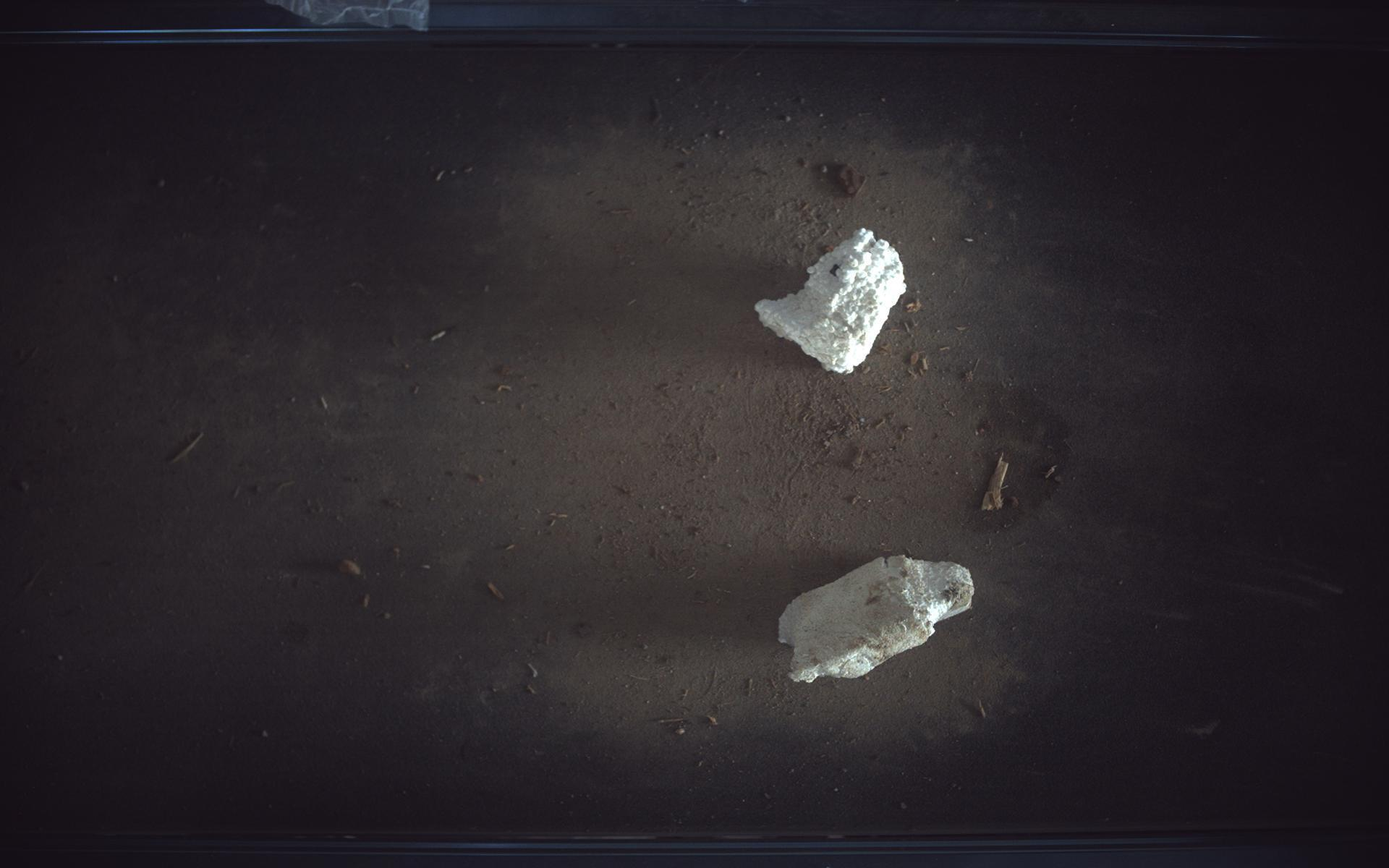foam: (780, 556, 976, 683), (756, 228, 908, 373)
